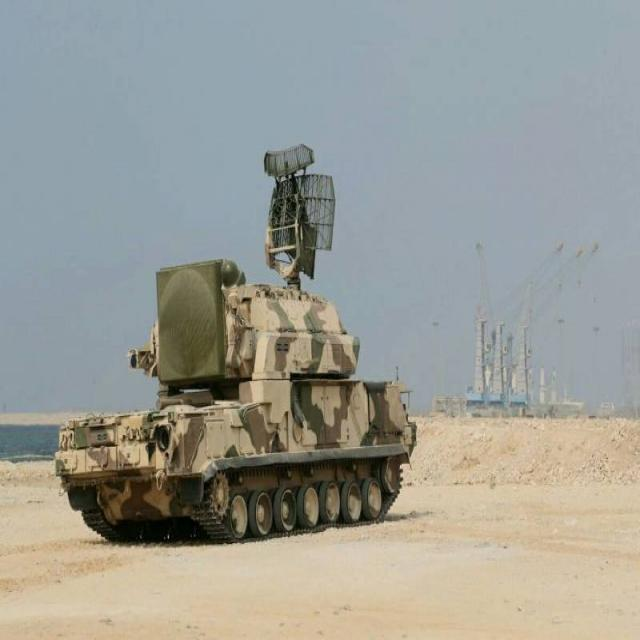MIL_EW_RDR: (55, 133, 415, 542)
